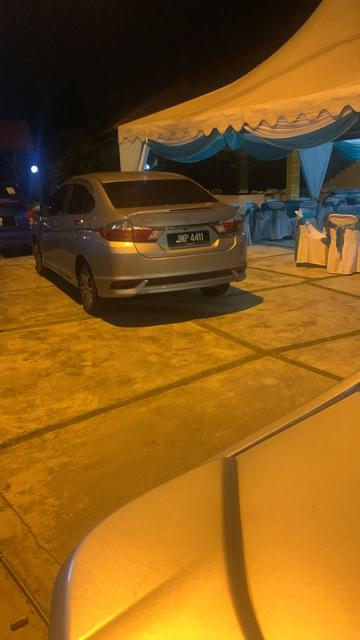License_Plate: (168, 231, 215, 254)
car: (30, 167, 253, 316)
